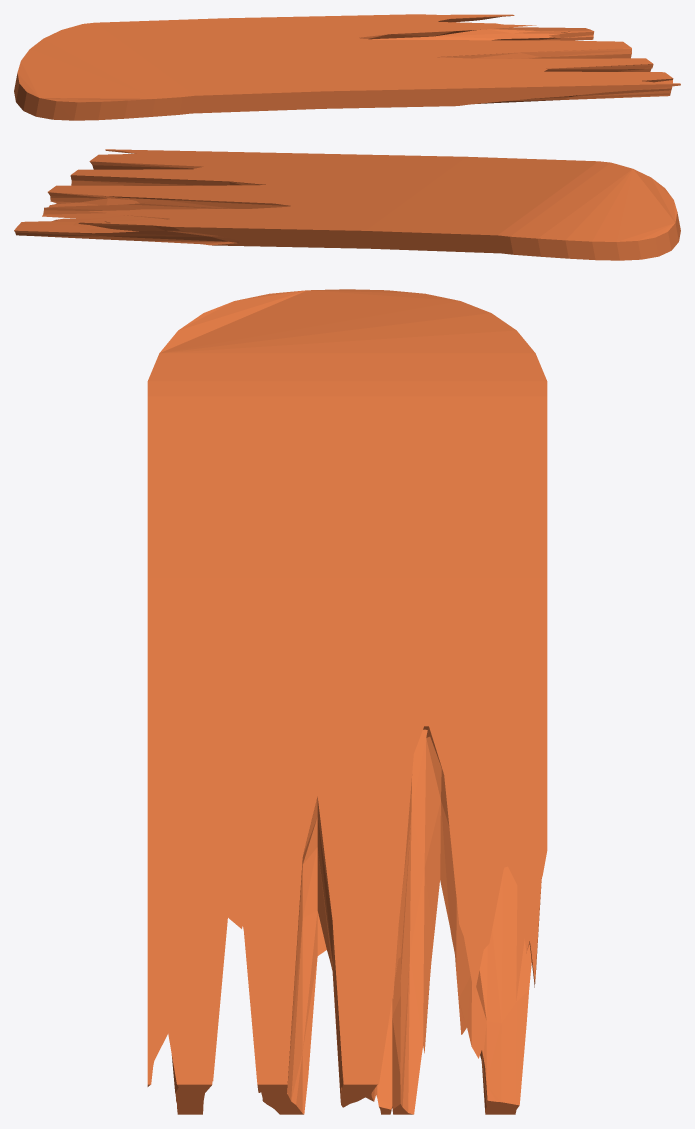
Rendered from SkateBoard.fbx.
3 views of the same model, one above another, from view 1: azimuth 30°, elevation 25°; view 2: azimuth 150°, elevation 25°; view 3: azimuth 270°, elevation 25° (orthographic). The views are drawn at different scales.
Parts seen in each view (by area): view 1: Cylinder.001; view 2: Cylinder.001; view 3: Cylinder.001.
Boxes of the visible parts, bbox=[...] form: Cylinder.001: bbox=[14, 14, 680, 120]; Cylinder.001: bbox=[14, 149, 680, 260]; Cylinder.001: bbox=[147, 289, 547, 1114].
Bounding box in the file's own units: 375 × 75.2 × 107.
